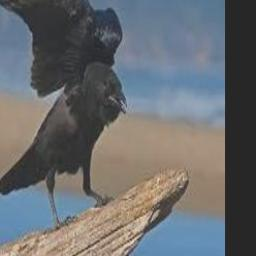Crow: (0, 0, 127, 233)
